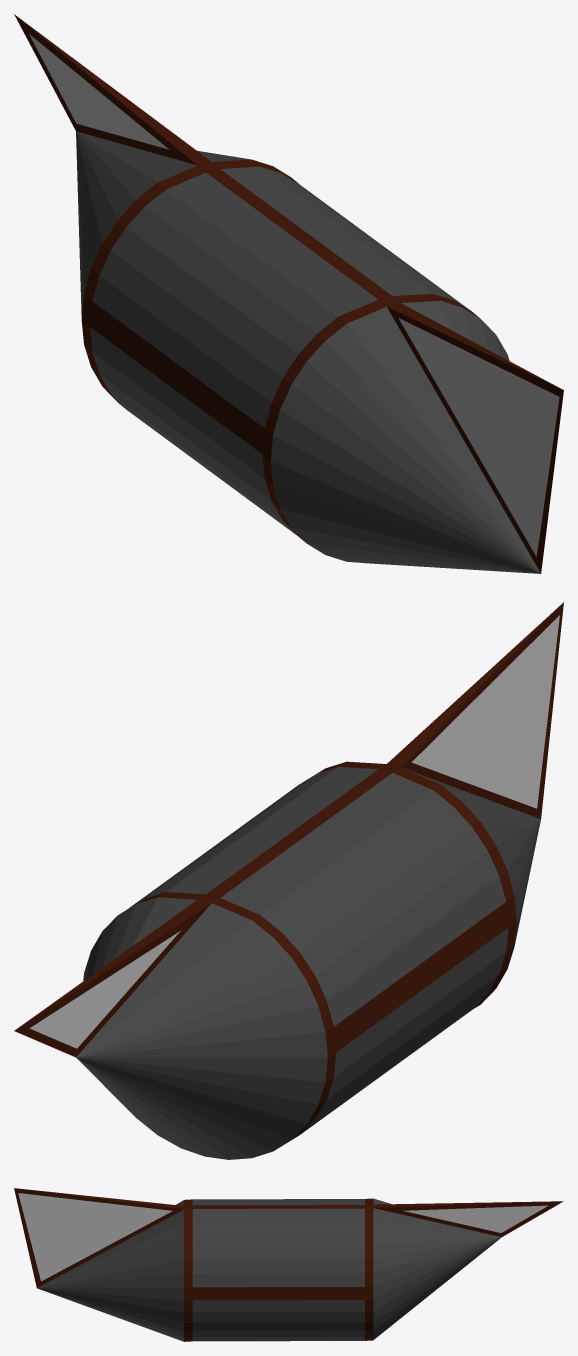
File: cruiser.obj
3 views of the same model, one above another, from view 1: azimuth 30°, elevation 25°; view 2: azimuth 150°, elevation 25°; view 3: azimuth 270°, elevation 25° (orthographic). The views are drawn at different scales.
Visible parts, largest first — view 1: Cylinder; view 2: Cylinder; view 3: Cylinder.
Boxes of the visible parts, x1=… form: Cylinder: x1=14, y1=14, x2=563, y2=573; Cylinder: x1=14, y1=602, x2=563, y2=1159; Cylinder: x1=14, y1=1188, x2=563, y2=1341.
Bounding box in the file's own units: 1.35 × 1.54 × 5.21.
